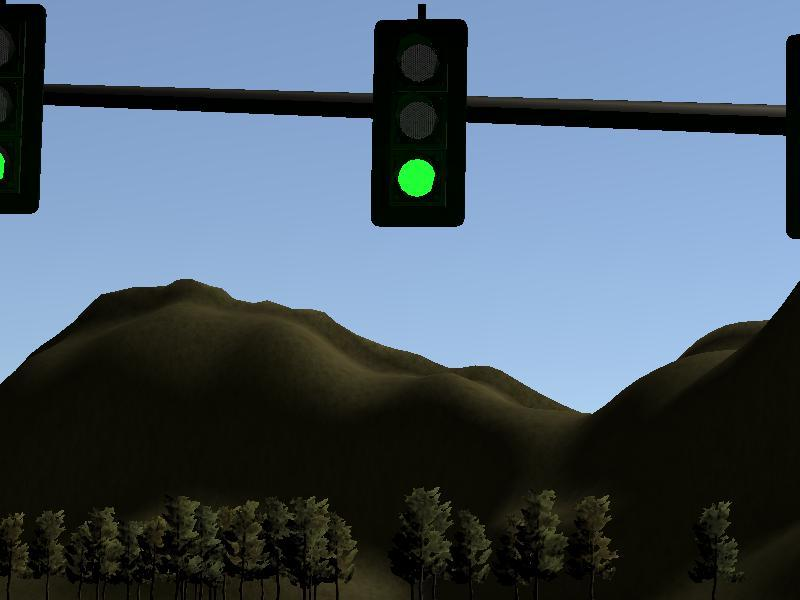Green: (376, 23, 463, 226), (1, 7, 38, 211)
